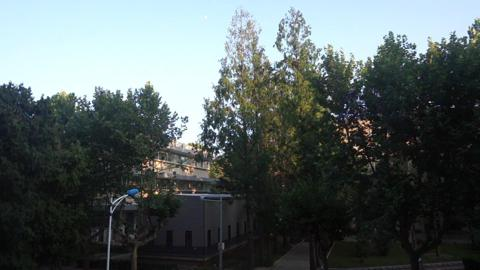UAV: (98, 90, 107, 94)
